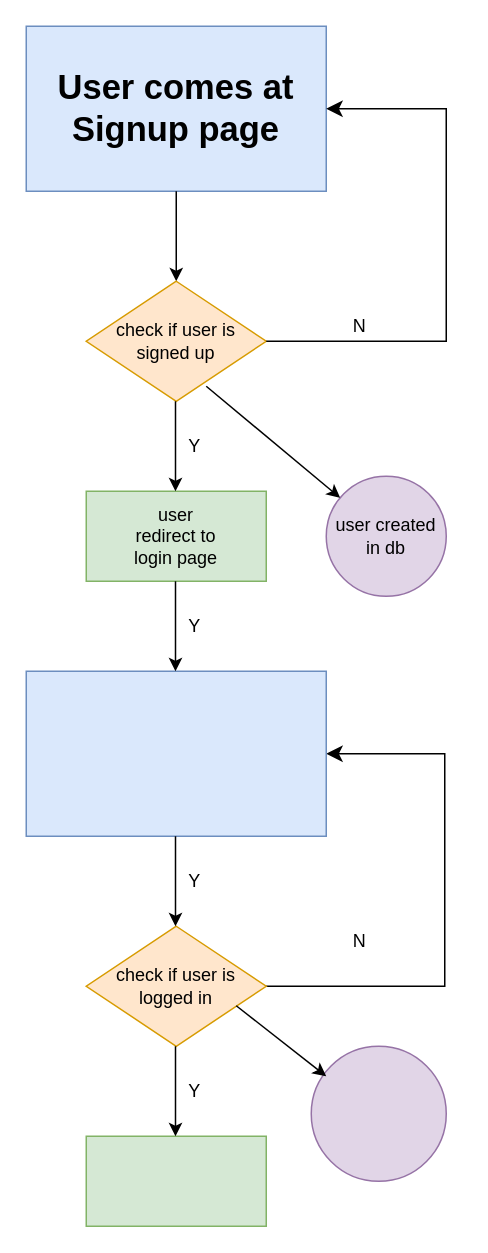
Some shapes in this 488 by 1253 pixel diagram are drawn without their labels. The shapes that lost their labels are listed below. From the top down, each one's box as (x1, y1, x2, y2) in pixels, then its label:
(25, 670, 326, 836): User comes at Login Page
(310, 1045, 446, 1181): checking if user exsists in database
(85, 1135, 266, 1226): user redirects to products page
